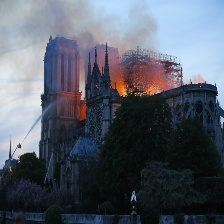fire: (115, 75, 158, 95)
smoke: (3, 3, 115, 70)
